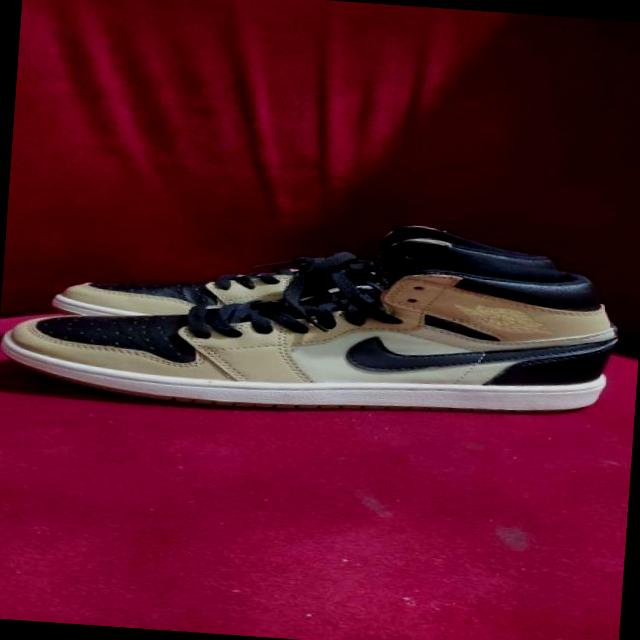nike_fake_jordan: (0, 215, 625, 438), (48, 194, 574, 350)
